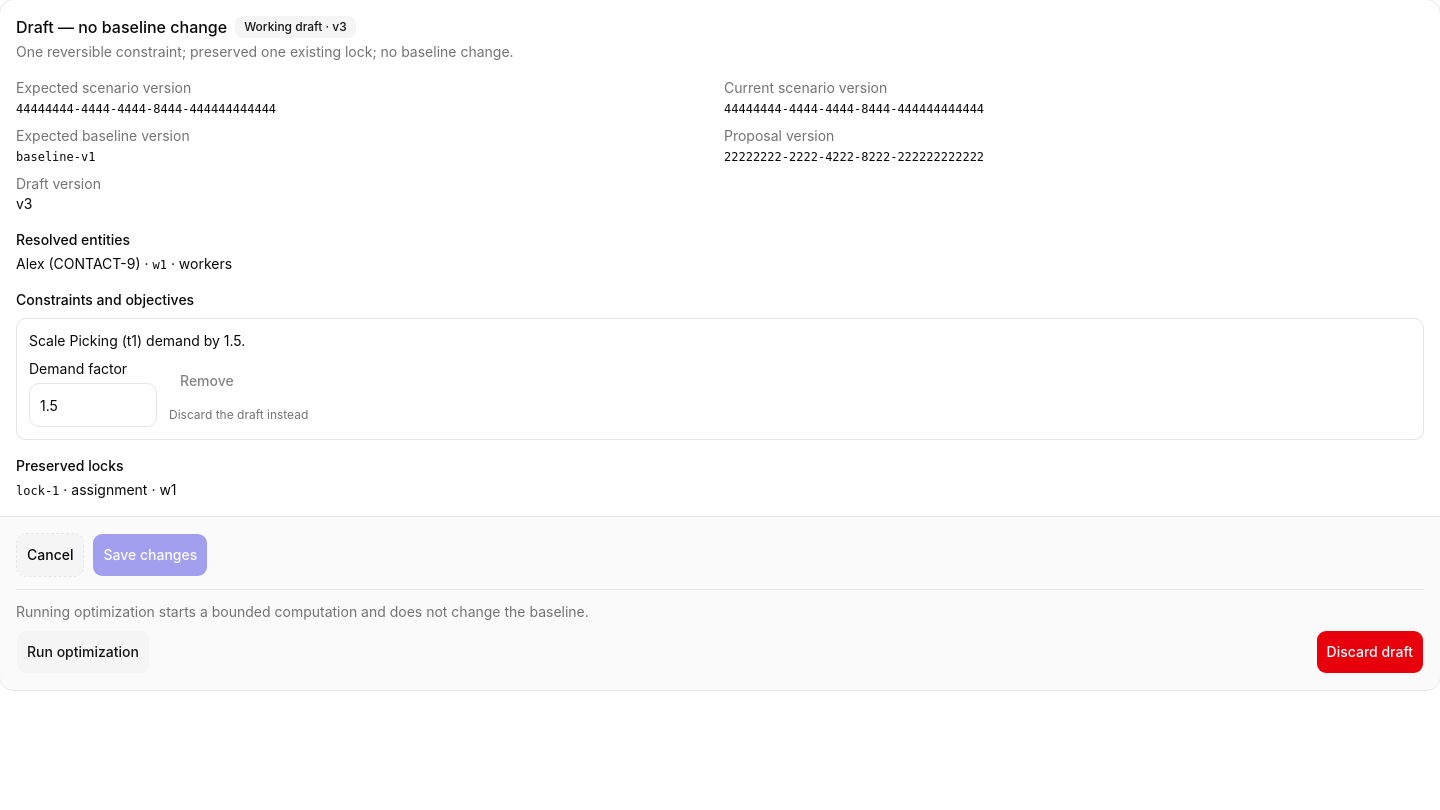
Scenario: DraftCard — the working draft › validation mirrors the resolver, and errors sit on the affected control › Demand factor
Step 1. Replace the text in the number field labelled "Demand factor" with "0" → (93, 405), box [29, 383, 157, 427]
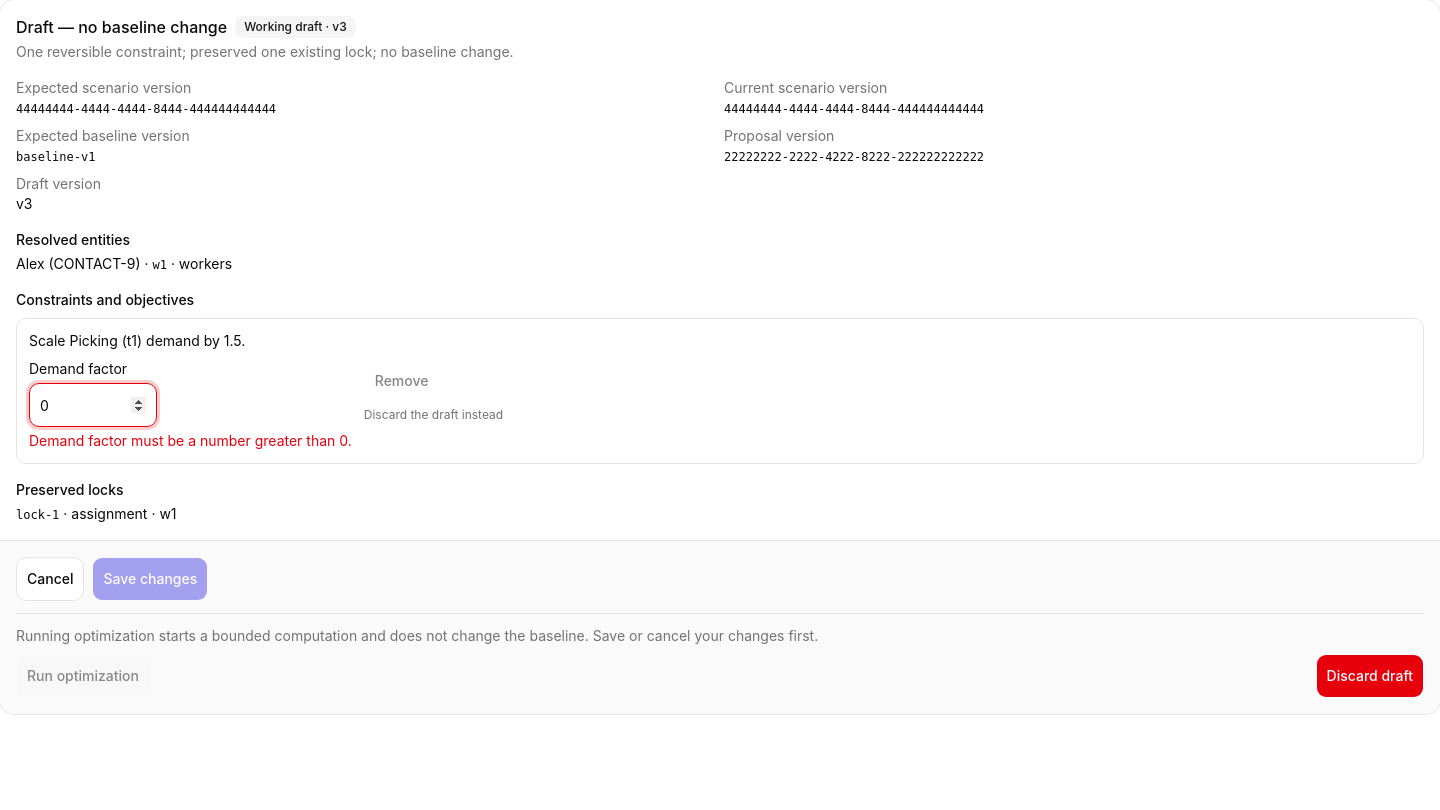
Check: the button "Save changes" is disabled, box [92, 557, 208, 601]
Check: the number field labelled "Demand factor" is marked as invalid
Step 2. Clear the number field labelled "Demand factor" → (93, 405), box [29, 383, 157, 427]
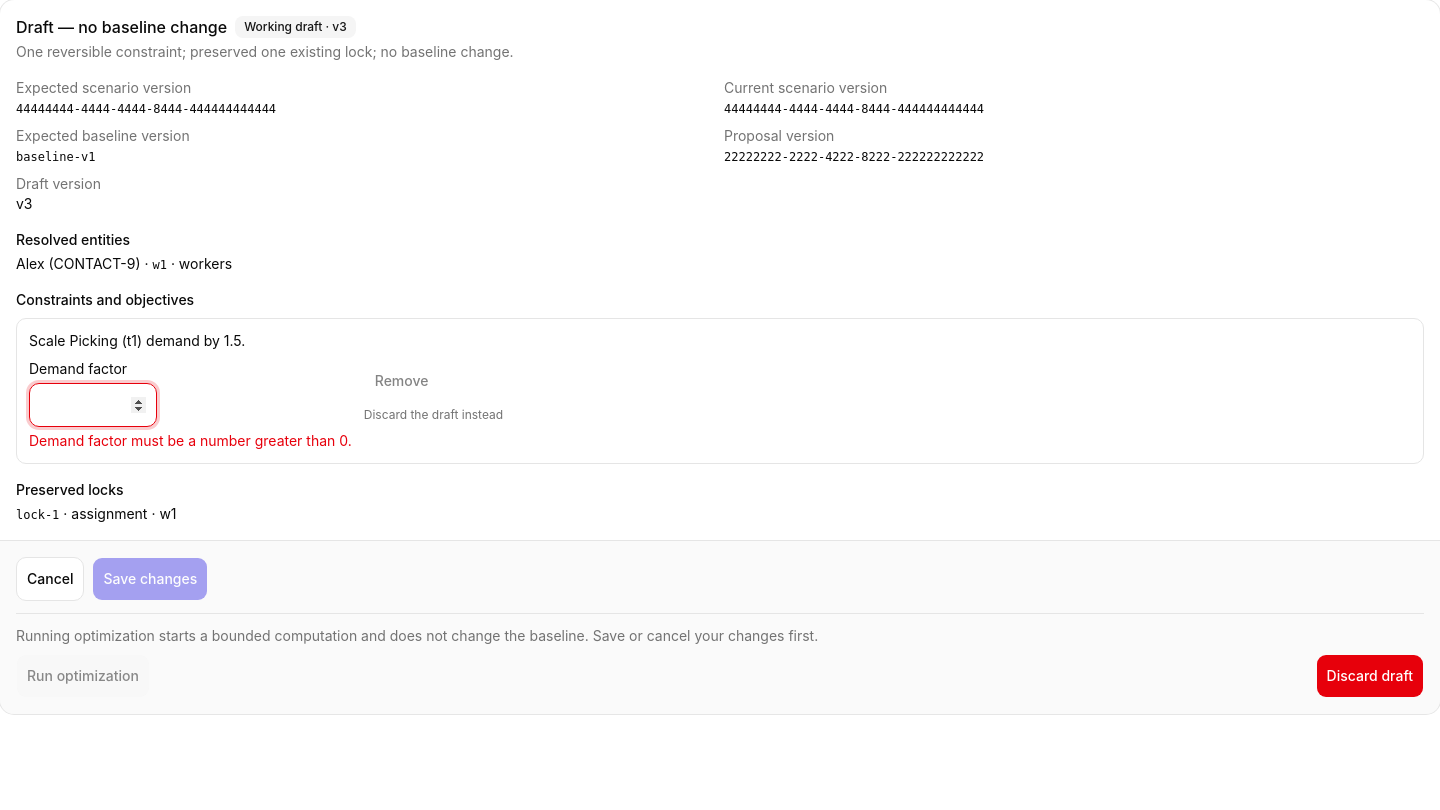
Check: the button "Save changes" is disabled, box [92, 557, 208, 601]
Check: the number field labelled "Demand factor" is marked as invalid
Step 3. Type "0.5" into the number field labelled "Demand factor" → (93, 405), box [29, 383, 157, 427]
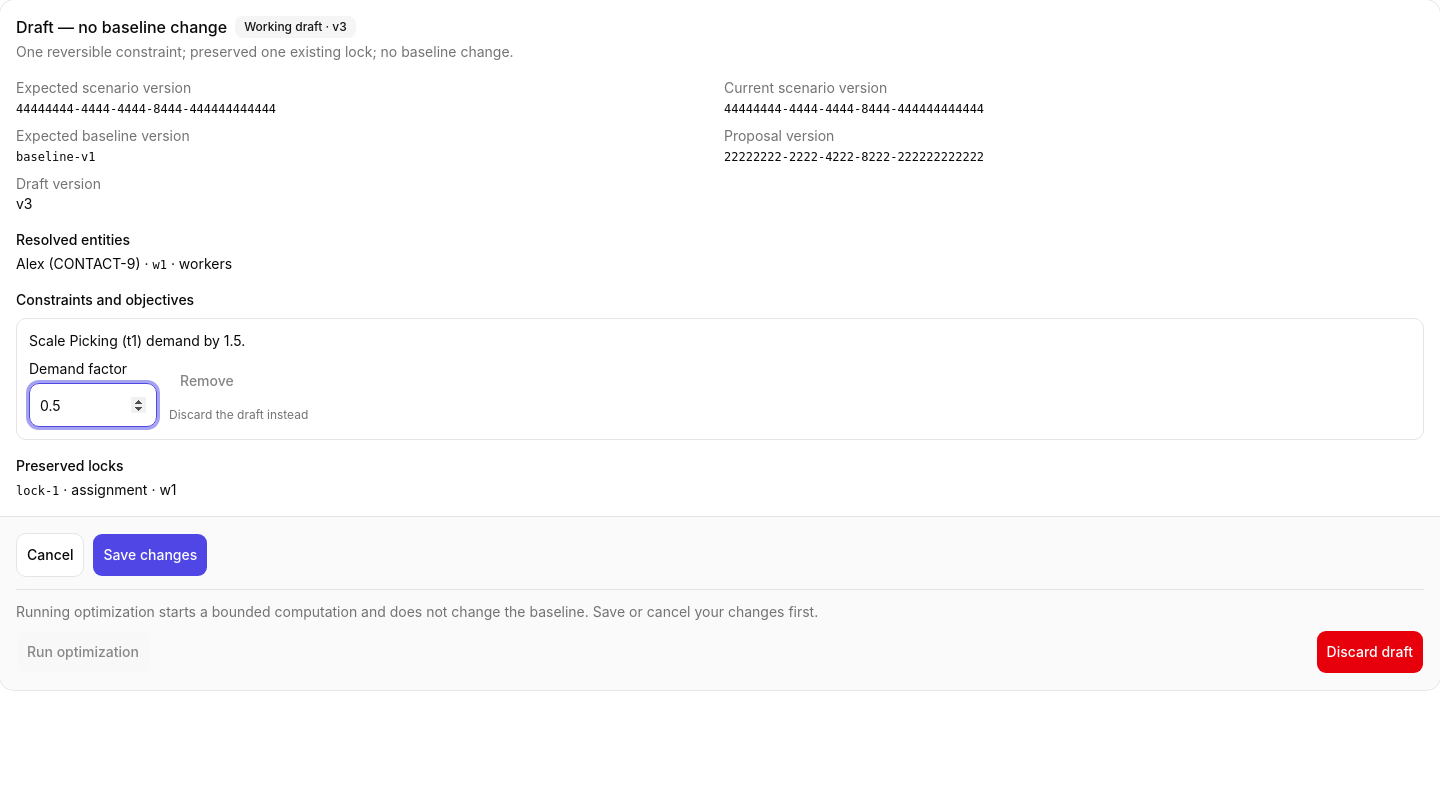
Check: the button "Save changes" is enabled, box [92, 533, 208, 577]
